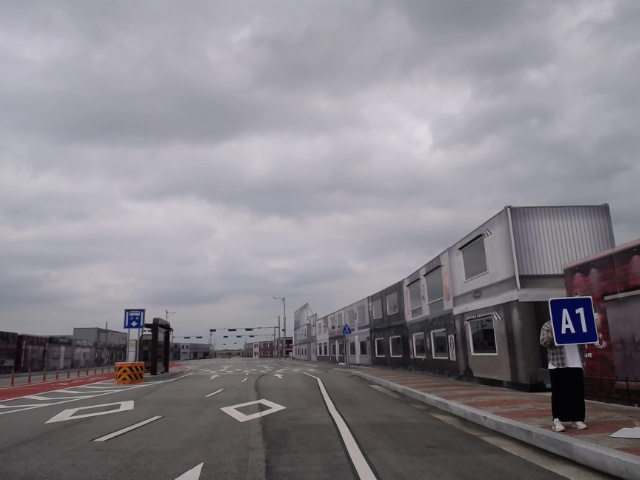delivery_a1: (549, 297, 599, 346)
